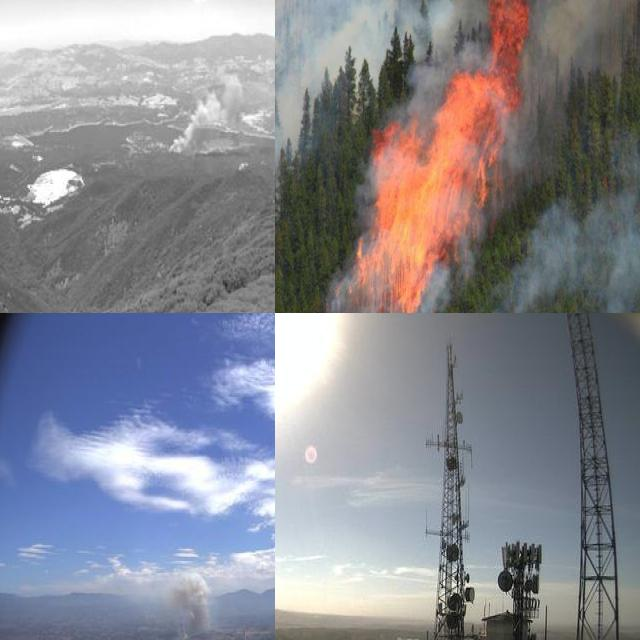fire: (342, 0, 537, 313)
smoke: (275, 0, 486, 222), (478, 102, 640, 313), (165, 70, 275, 157), (153, 567, 219, 640)
